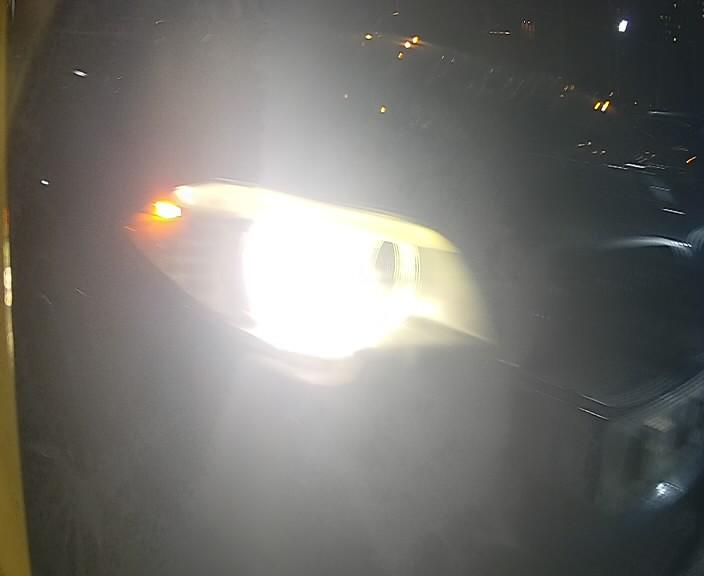Car: (35, 42, 642, 502)
